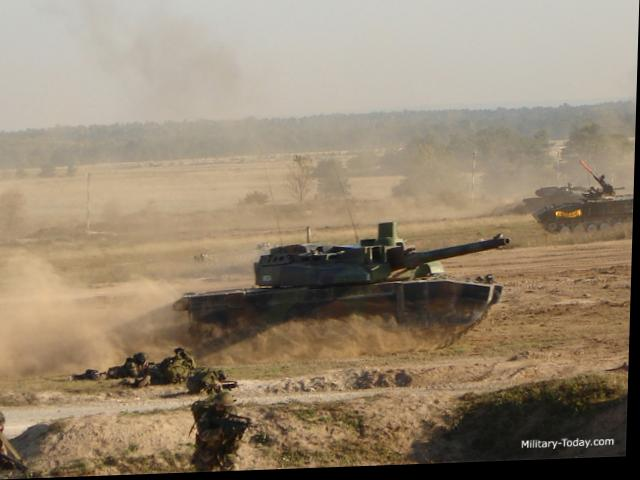tank: (164, 213, 528, 370)
